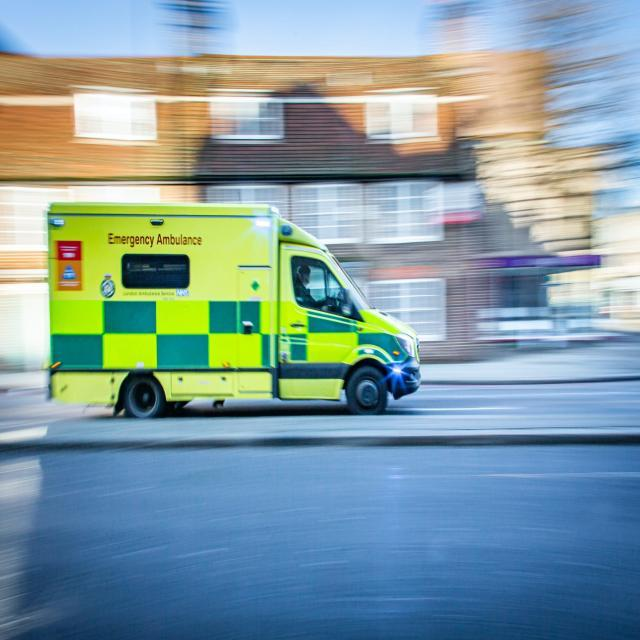emergency-vehicle: (28, 182, 426, 420)
